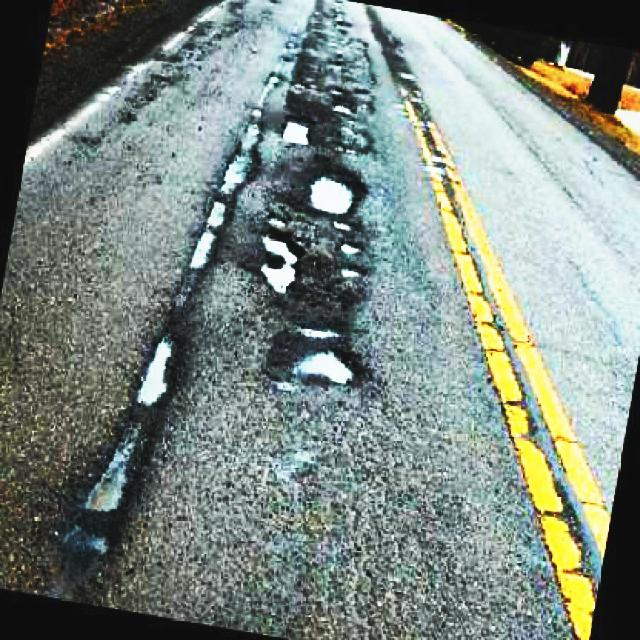pothole: (52, 329, 190, 562), (188, 110, 268, 272), (292, 318, 371, 392), (257, 220, 305, 300), (311, 166, 363, 220), (280, 108, 317, 154)
